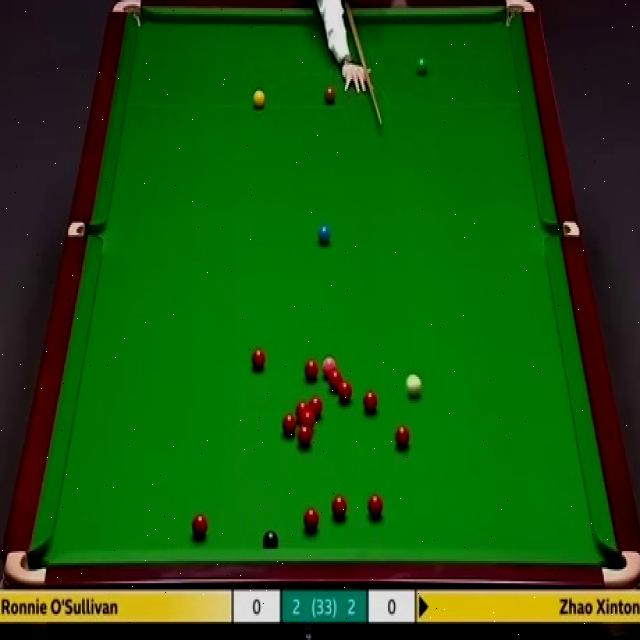black-ball: (262, 531, 279, 549)
blue-ball: (316, 221, 331, 246)
brown-ball: (324, 86, 335, 105)
green-ball: (413, 57, 429, 76)
pink-ball: (323, 357, 337, 379)
red-ball: (394, 422, 412, 452), (367, 493, 384, 520), (191, 513, 208, 539), (362, 390, 378, 416), (304, 507, 319, 533), (332, 494, 347, 520), (281, 412, 297, 436), (309, 396, 323, 422), (297, 425, 312, 449), (328, 369, 343, 392), (338, 381, 352, 404), (252, 349, 266, 371), (305, 362, 318, 381), (302, 414, 314, 434), (296, 401, 308, 421)
white-ball: (406, 372, 422, 399)
yellow-ball: (252, 88, 265, 108)
